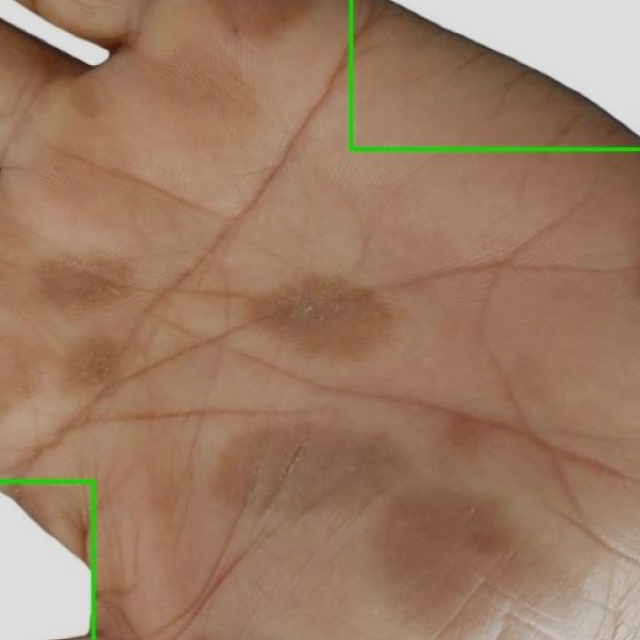Contact Dermatitis: (351, 0, 639, 149), (0, 481, 93, 639)
